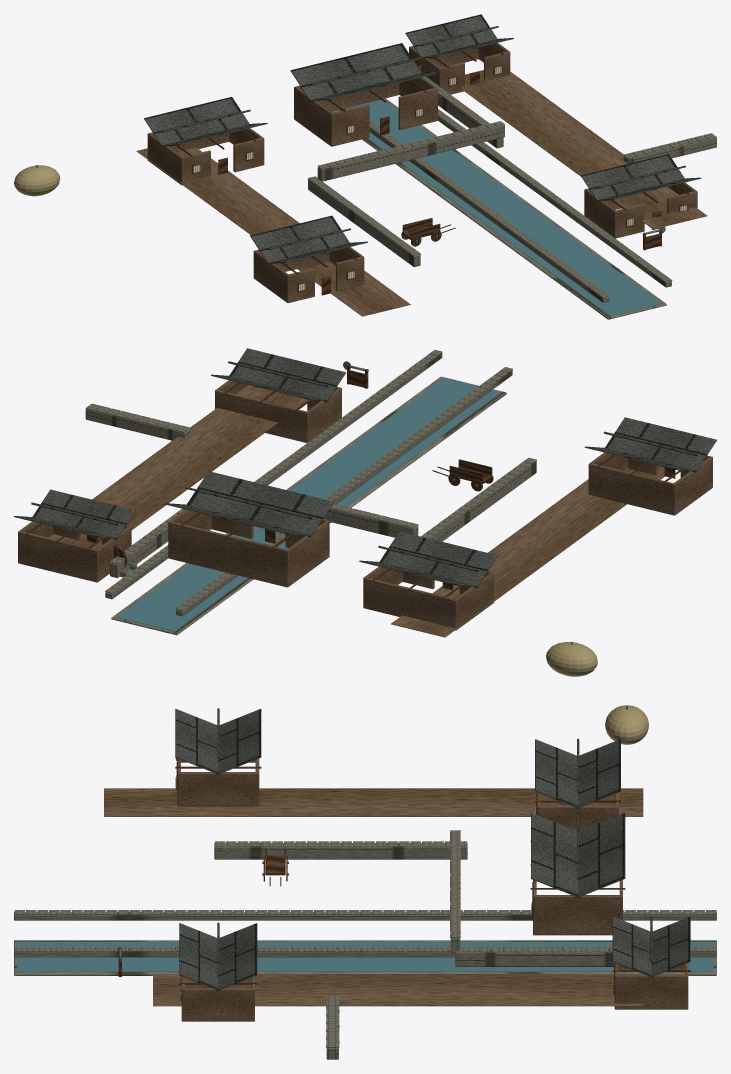
Rendered from Model_EnvironmentNorthVillage.glb.
The picture shows the model from 3 angles, top to bottom: view 1: azimuth 30°, elevation 25°; view 2: azimuth 150°, elevation 25°; view 3: azimuth 270°, elevation 25°; orthographic projection. The views are drawn at different scales.
Parts seen in each view (by area): view 1: Model_EnvironmentNorthVillage; view 2: Model_EnvironmentNorthVillage; view 3: Model_EnvironmentNorthVillage.
Boxes of the visible parts, bbox=[...] form: Model_EnvironmentNorthVillage: bbox=[14, 14, 716, 319]; Model_EnvironmentNorthVillage: bbox=[14, 348, 716, 676]; Model_EnvironmentNorthVillage: bbox=[14, 705, 716, 1059].
Bounding box in the file's own units: 97.1 × 12.57 × 86.
Materials: 8 (4 with a texture image).
